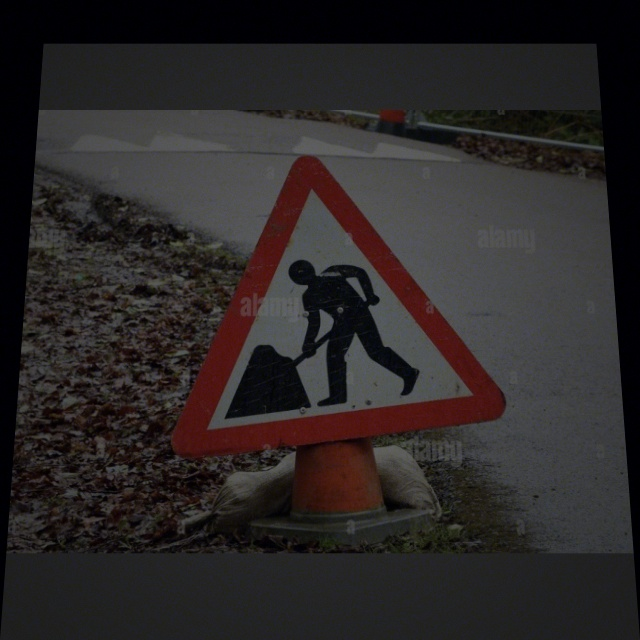Men_at_Work: (174, 159, 520, 449)
